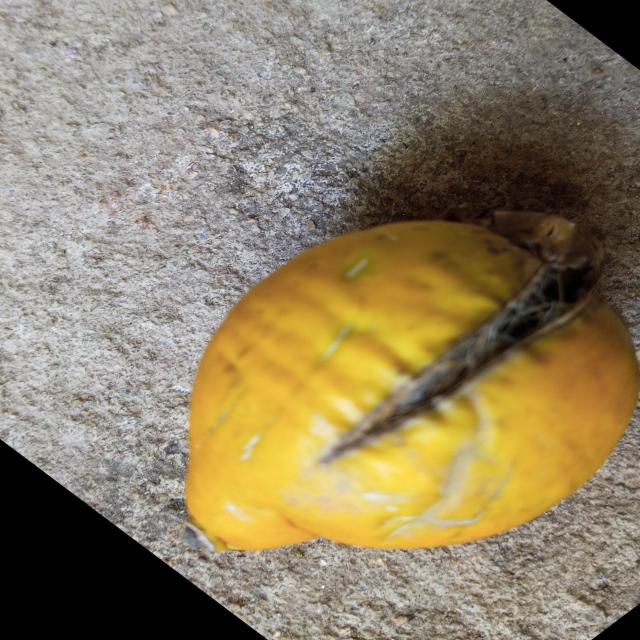damaged: (185, 210, 640, 551)
